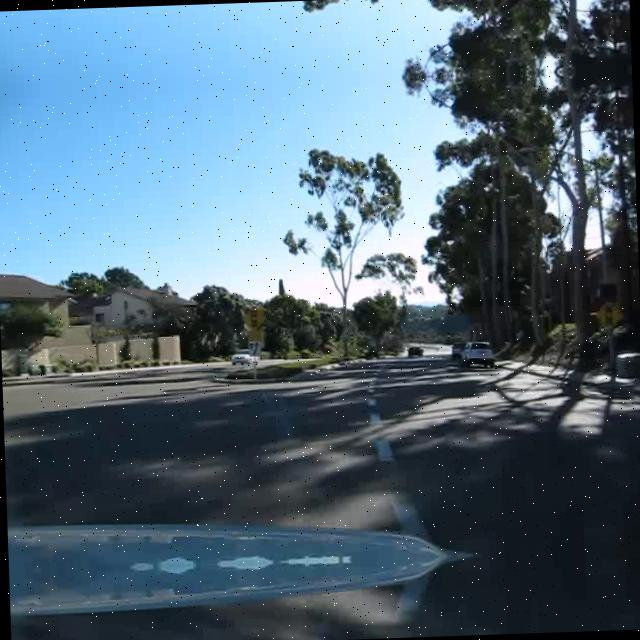signalAhead: (591, 300, 625, 332), (240, 304, 266, 331)
